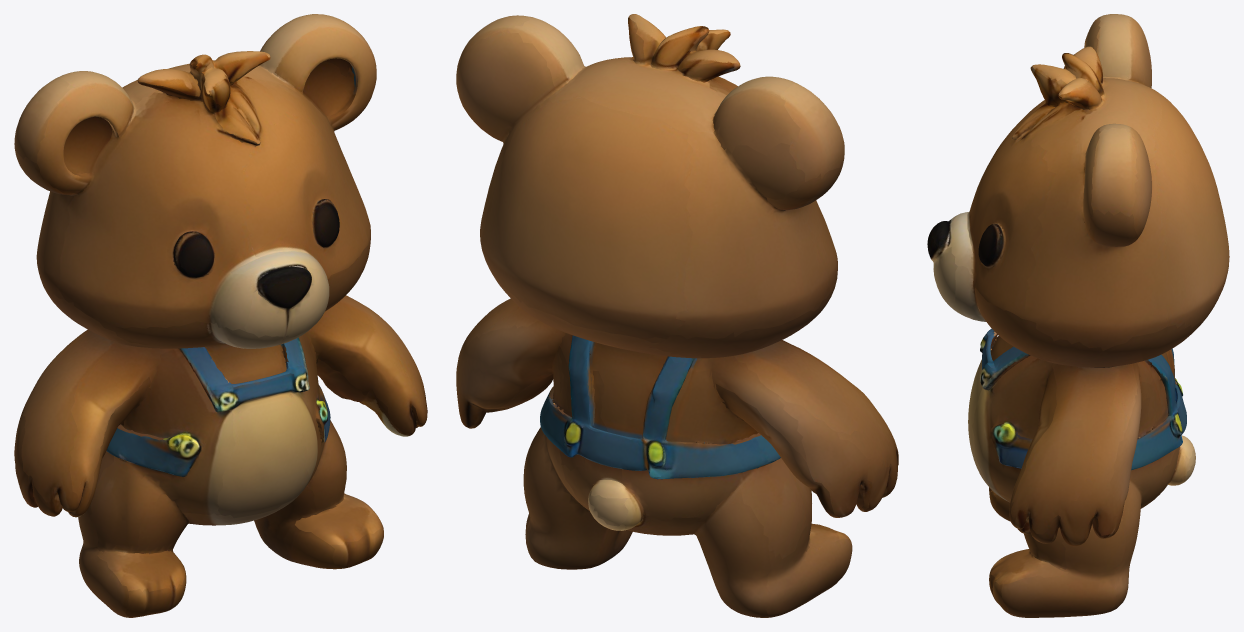
File: bear_builder.glb
3 views of the same model, side by side, from view 1: azimuth 30°, elevation 25°; view 2: azimuth 150°, elevation 25°; view 3: azimuth 270°, elevation 25° (orthographic). The views are drawn at different scales.
Parts seen in each view (by area): view 1: companions-bear-bear_builder_textured; view 2: companions-bear-bear_builder_textured; view 3: companions-bear-bear_builder_textured.
Boxes of the visible parts, x1,y1,x2,y2 form: companions-bear-bear_builder_textured: (14, 14, 427, 617); companions-bear-bear_builder_textured: (456, 14, 898, 617); companions-bear-bear_builder_textured: (927, 14, 1229, 617).
Size of the model in its own units: 1.59 by 1.99 by 1.1.
1 material, 1 textured.
